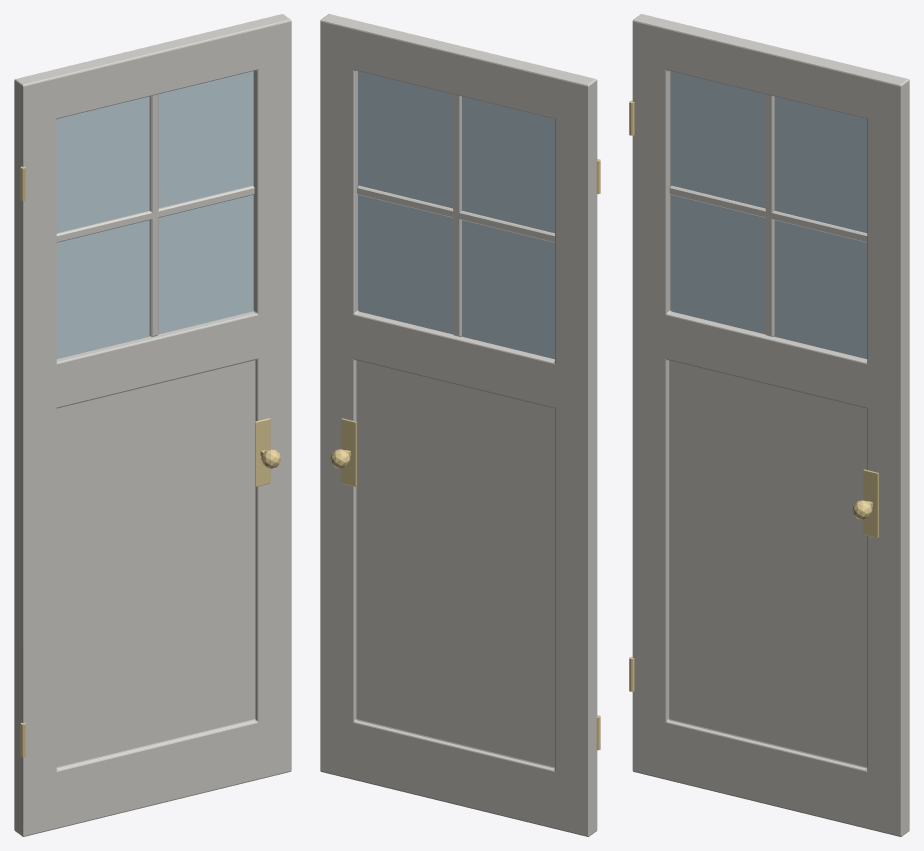
Rendered from door_leaf_garden.glb.
The picture shows the model from 3 angles, left to right: view 1: azimuth 30°, elevation 25°; view 2: azimuth 150°, elevation 25°; view 3: azimuth 330°, elevation 25°; orthographic projection.
Parts seen in each view (by area): view 1: door_leaf_garden_frame, door_leaf_garden_glass, door_leaf_garden_brass; view 2: door_leaf_garden_frame, door_leaf_garden_glass, door_leaf_garden_brass; view 3: door_leaf_garden_frame, door_leaf_garden_glass, door_leaf_garden_brass.
Part boxes in pixels (x1,y1,x2,y2): door_leaf_garden_frame: (14, 14, 291, 836); door_leaf_garden_glass: (56, 71, 253, 359); door_leaf_garden_brass: (20, 166, 281, 757); door_leaf_garden_frame: (320, 14, 597, 836); door_leaf_garden_glass: (358, 71, 554, 359); door_leaf_garden_brass: (330, 159, 600, 750); door_leaf_garden_frame: (632, 14, 909, 836); door_leaf_garden_glass: (670, 71, 867, 358); door_leaf_garden_brass: (629, 100, 878, 691).
Size of the model in its own units: 0.868 by 2.3 by 0.206.
